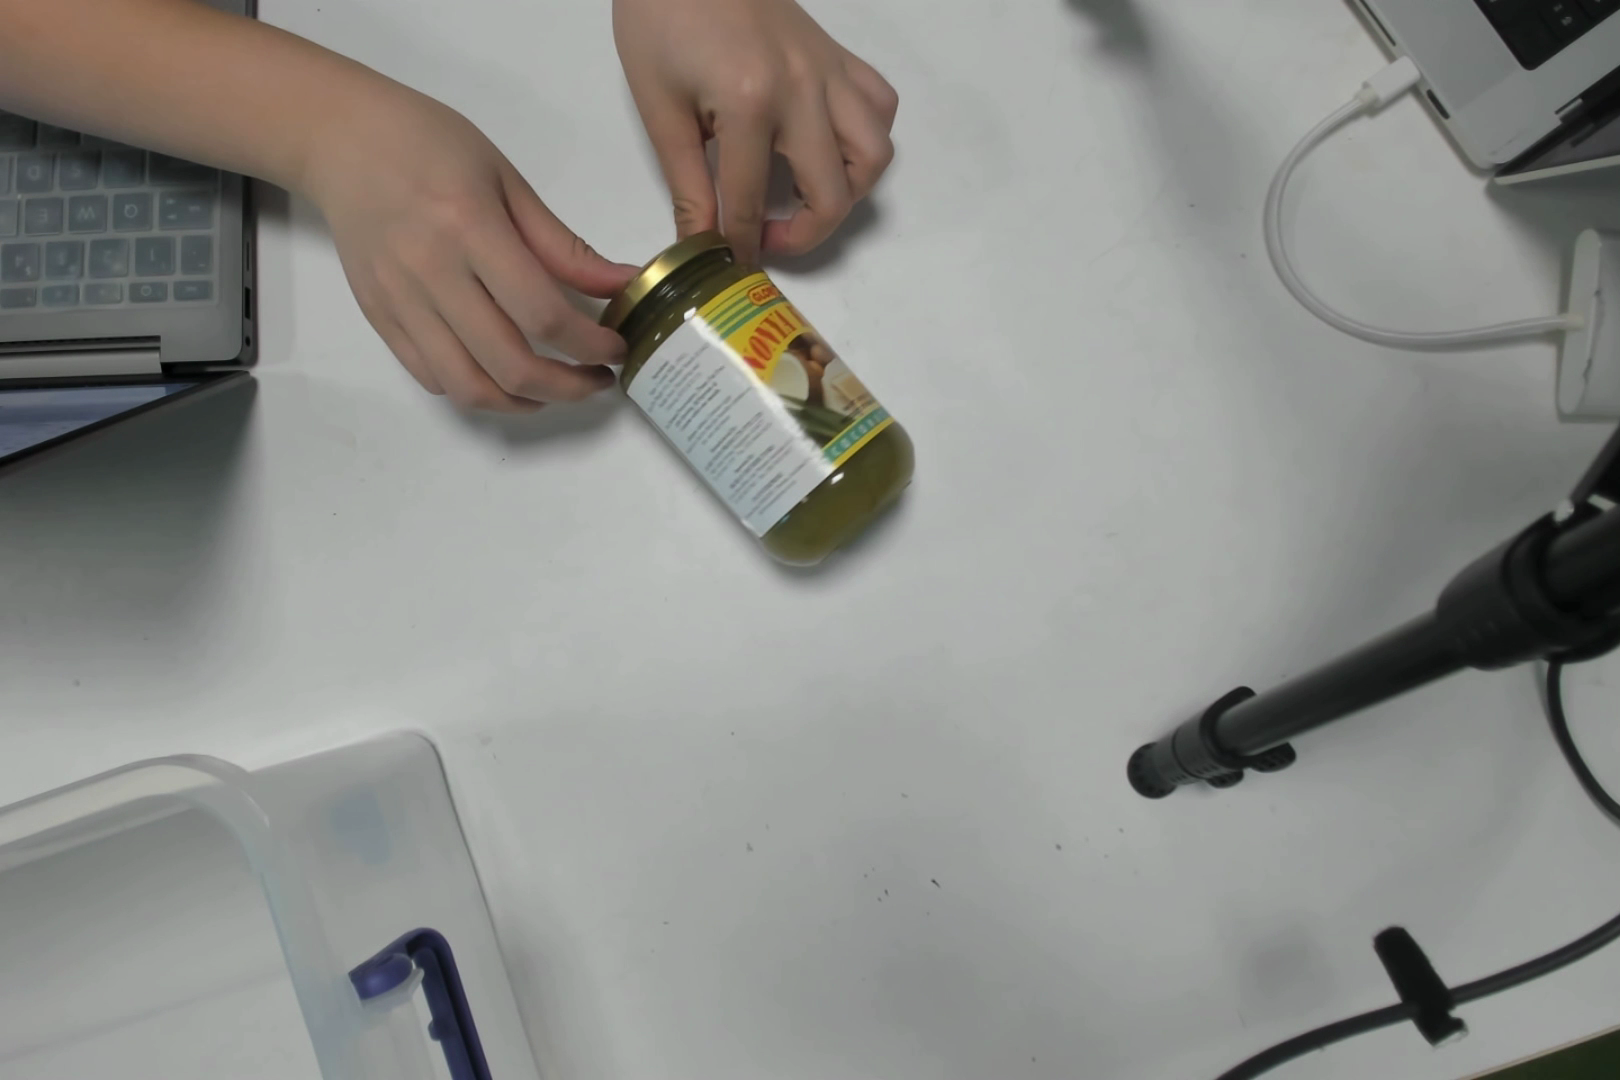Kaya_400-499g_Halal_NonHealthy: (626, 256, 896, 553)
